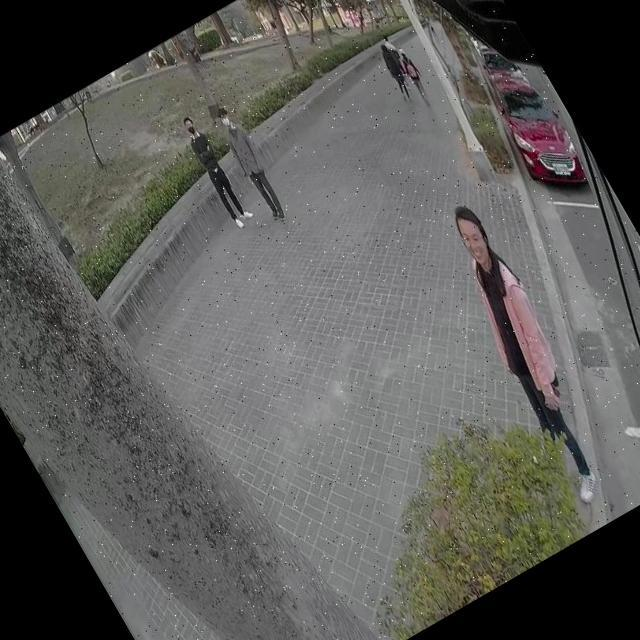person: (425, 198, 634, 504), (208, 102, 292, 225), (176, 110, 258, 230), (392, 46, 434, 105), (374, 44, 412, 100), (375, 26, 397, 54)
